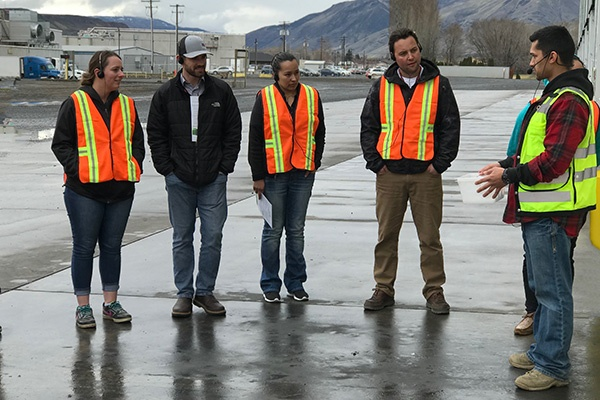person with partial safety: (502, 29, 582, 389), (364, 35, 460, 318), (56, 53, 138, 328), (251, 53, 323, 304)
person without safety: (149, 34, 239, 317)
safety vest: (516, 90, 594, 219), (61, 93, 146, 185), (261, 83, 321, 177), (374, 74, 437, 161)
